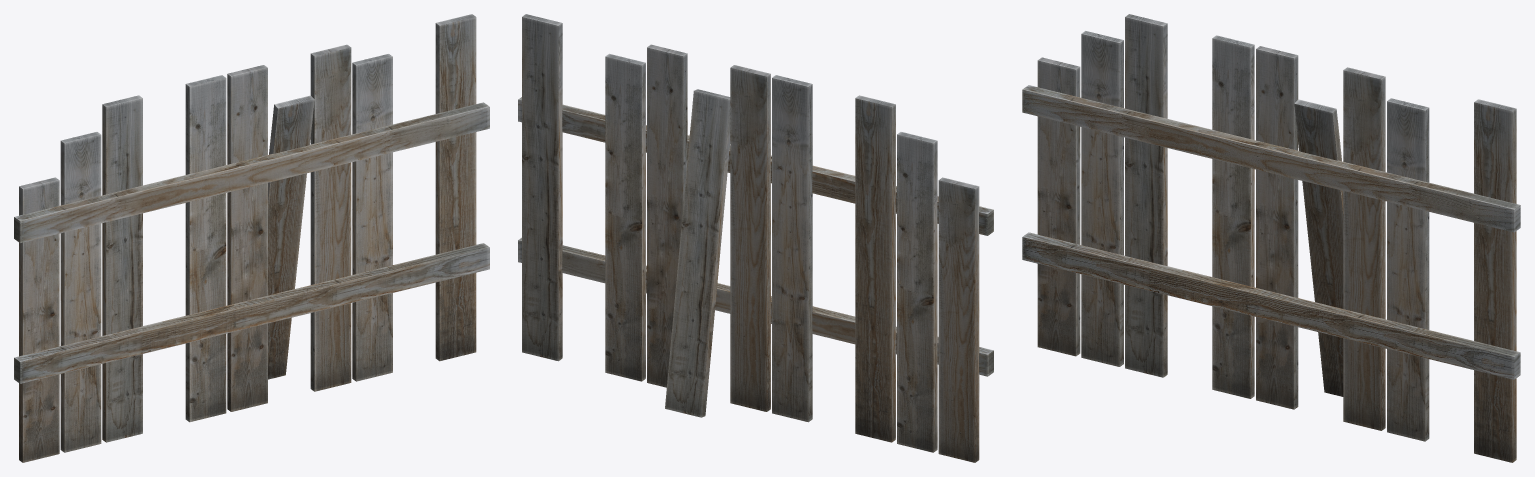
The model's file is hedgeWoodHighC.FBX.
3 views of the same model, side by side, from view 1: azimuth 30°, elevation 25°; view 2: azimuth 150°, elevation 25°; view 3: azimuth 330°, elevation 25° (orthographic). The views are drawn at different scales.
Visible parts, largest first — view 1: hedgeWoodHighC; view 2: hedgeWoodHighC; view 3: hedgeWoodHighC.
Part boxes in pixels (bbox=[...]): hedgeWoodHighC: bbox=[14, 14, 489, 462]; hedgeWoodHighC: bbox=[518, 14, 993, 462]; hedgeWoodHighC: bbox=[1022, 14, 1520, 462].
Bounding box in the file's own units: 103 × 70 × 12.71.
